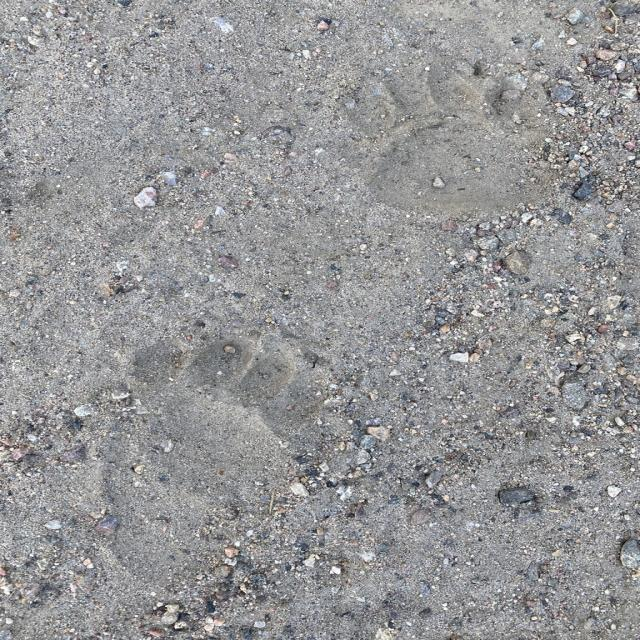bear: (97, 342, 325, 568), (348, 60, 548, 215)
